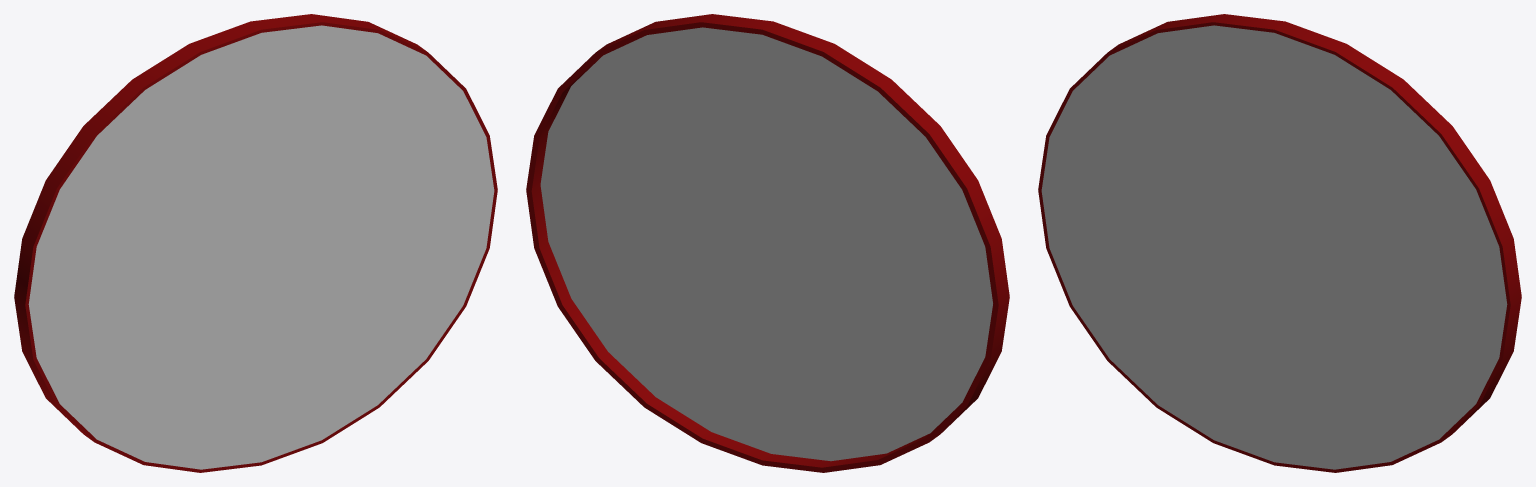
File: original-3.obj
3 views of the same model, side by side, from view 1: azimuth 30°, elevation 25°; view 2: azimuth 150°, elevation 25°; view 3: azimuth 330°, elevation 25° (orthographic).
Visible parts, largest first — view 1: Component_1_2/Component_1/mesh1/mesh1-geometry#mesh1-geometry; view 2: Component_1_2/Component_1/mesh1/mesh1-geometry#mesh1-geometry; view 3: Component_1_2/Component_1/mesh1/mesh1-geometry#mesh1-geometry.
Boxes of the visible parts, x1=… form: Component_1_2/Component_1/mesh1/mesh1-geometry#mesh1-geometry: x1=14, y1=14, x2=497, y2=472; Component_1_2/Component_1/mesh1/mesh1-geometry#mesh1-geometry: x1=526, y1=14, x2=1009, y2=472; Component_1_2/Component_1/mesh1/mesh1-geometry#mesh1-geometry: x1=1038, y1=14, x2=1521, y2=472.
Size of the model in its own units: 0.5382 by 0.4743 by 0.022.
